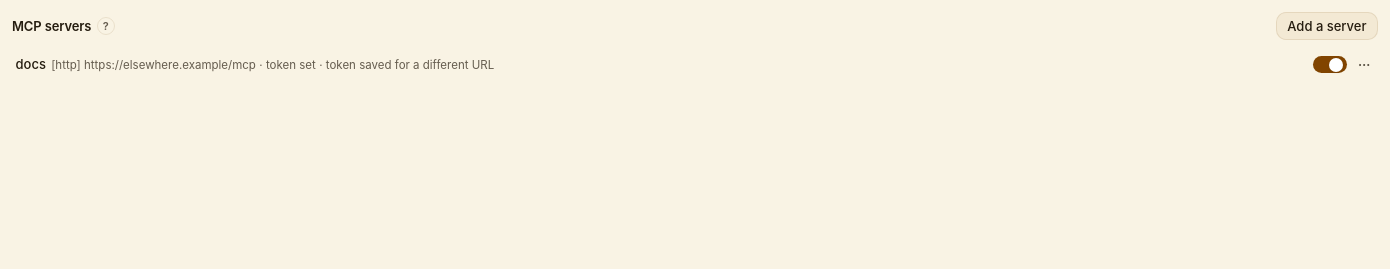
Test: ToolsSection bearer tokens › flags a token saved for a different URL under the same id
Expected: the text "· token saved for a different URL" is shown, [319,58,494,72]
Click the button named "Actions for docs": (1364, 64) [1354,54,1374,75]
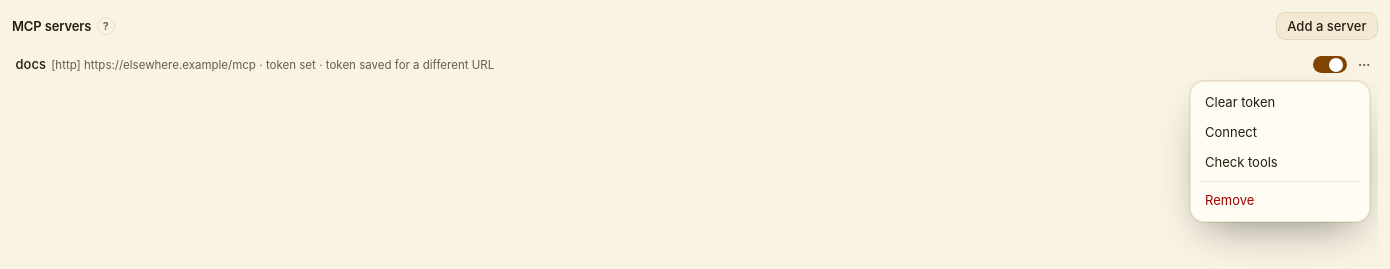
Expected: the menu item "Clear token" is shown, [1196,87,1364,117]
